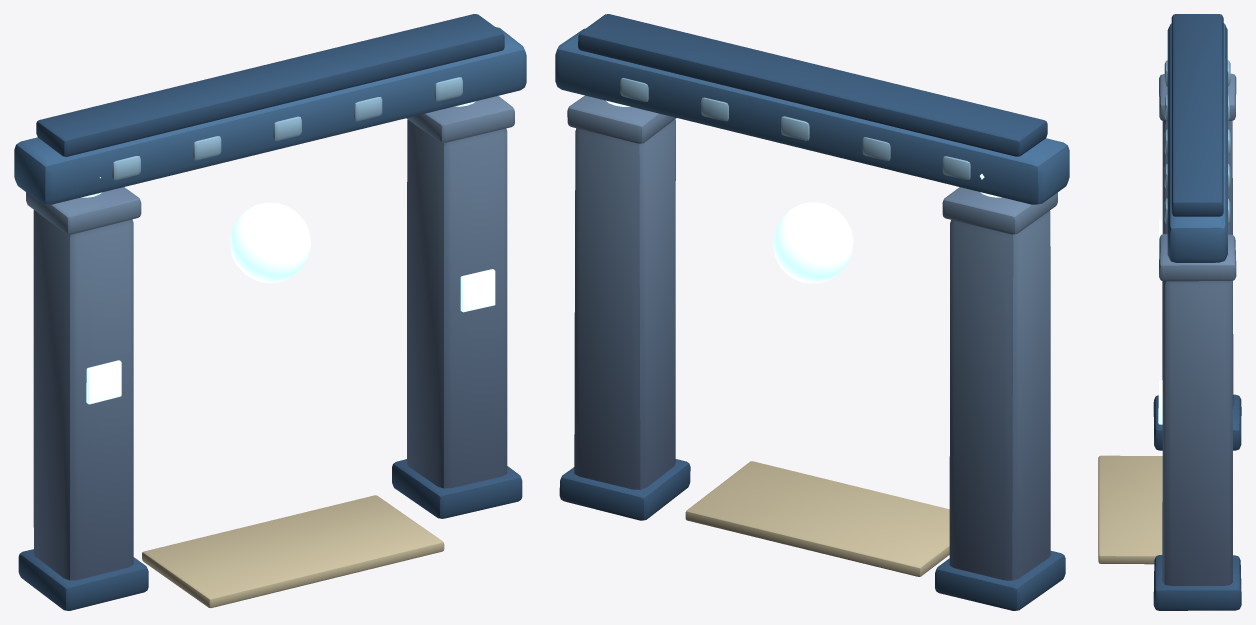
3 renders of one model, left to right at view 1: azimuth 30°, elevation 25°; view 2: azimuth 150°, elevation 25°; view 3: azimuth 270°, elevation 25°, orthographic. The views are drawn at different scales.
Visible parts, largest first — view 1: gate_c49815df; view 2: gate_c49815df; view 3: gate_c49815df.
Boxes of the visible parts, bbox=[...] form: gate_c49815df: bbox=[14, 14, 526, 610]; gate_c49815df: bbox=[555, 14, 1069, 610]; gate_c49815df: bbox=[1098, 14, 1241, 610].
Size of the model in its own units: 4.96 by 4.52 by 1.44.
